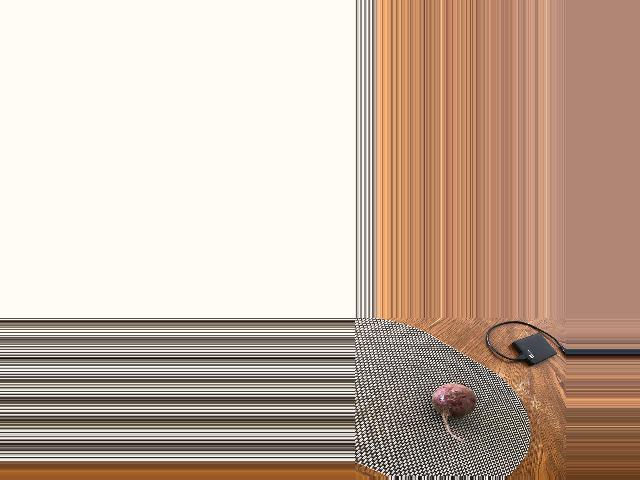beet: (432, 384, 476, 442)
